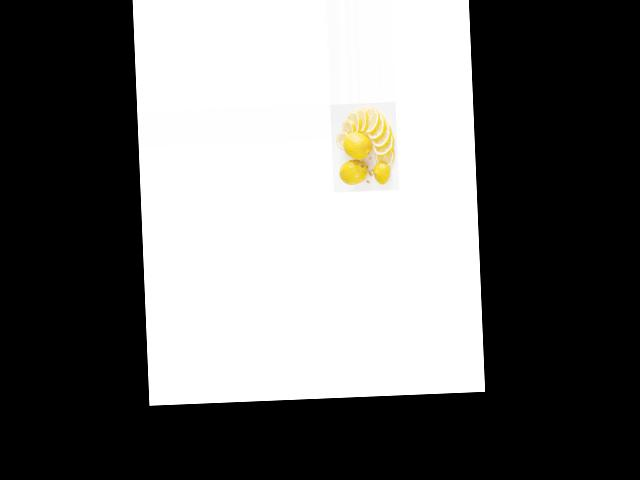lemon: (370, 163, 390, 184)
